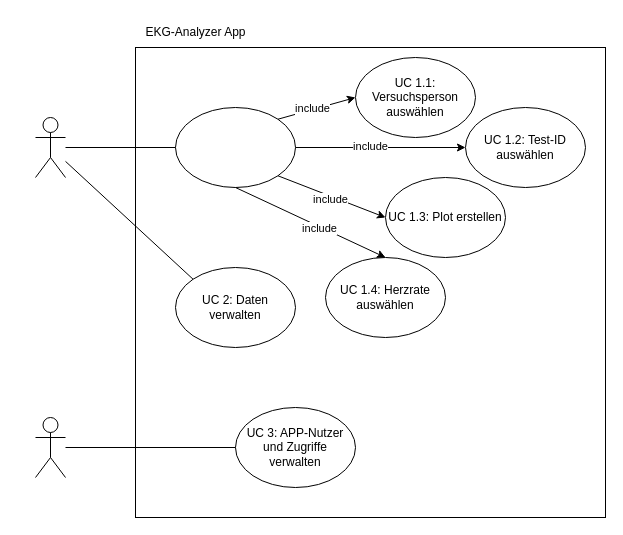
This 623x535 diagram has some shape labels left out. The shapes that lost their labels are listed below. From the top down, each one's centre as x and y in pixels, then its label:
point (50, 147): Diagnostiker
point (235, 147): UC 1.0: EKG eines Tests auswerten
point (50, 447): Admin
